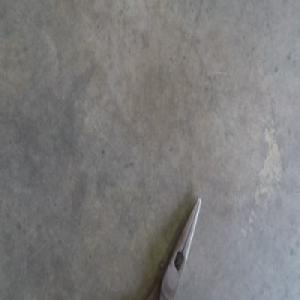Pliers: (149, 195, 201, 298)
